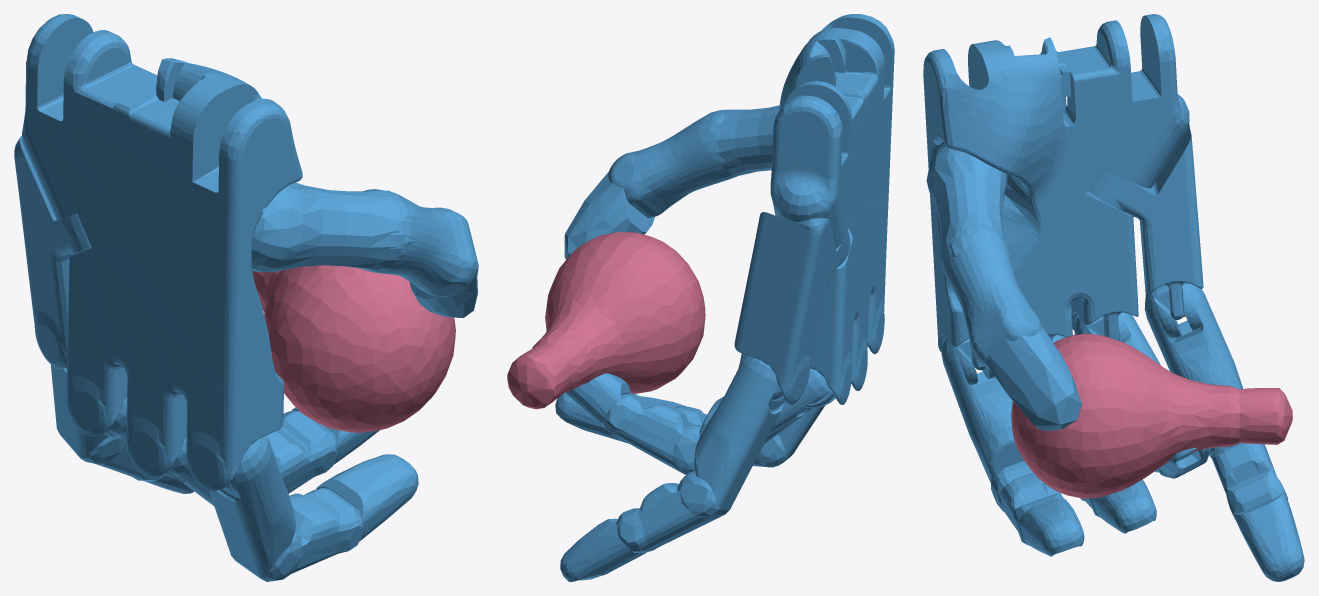
3 views of the same model, side by side, from view 1: azimuth 30°, elevation 25°; view 2: azimuth 150°, elevation 25°; view 3: azimuth 270°, elevation 25° (orthographic). The views are drawn at different scales.
Parts seen in each view (by area): view 1: 2; view 2: 2; view 3: 2.
Part boxes in pixels (<box>): 2: <box>14,14,478,581</box>; 2: <box>507,14,894,581</box>; 2: <box>923,14,1304,581</box>.
Size of the model in its own units: 0.1185 by 0.1691 by 0.1213.
